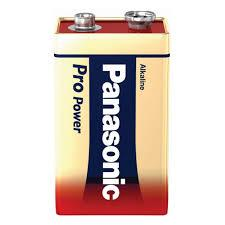9V Battery: (53, 11, 173, 219)
